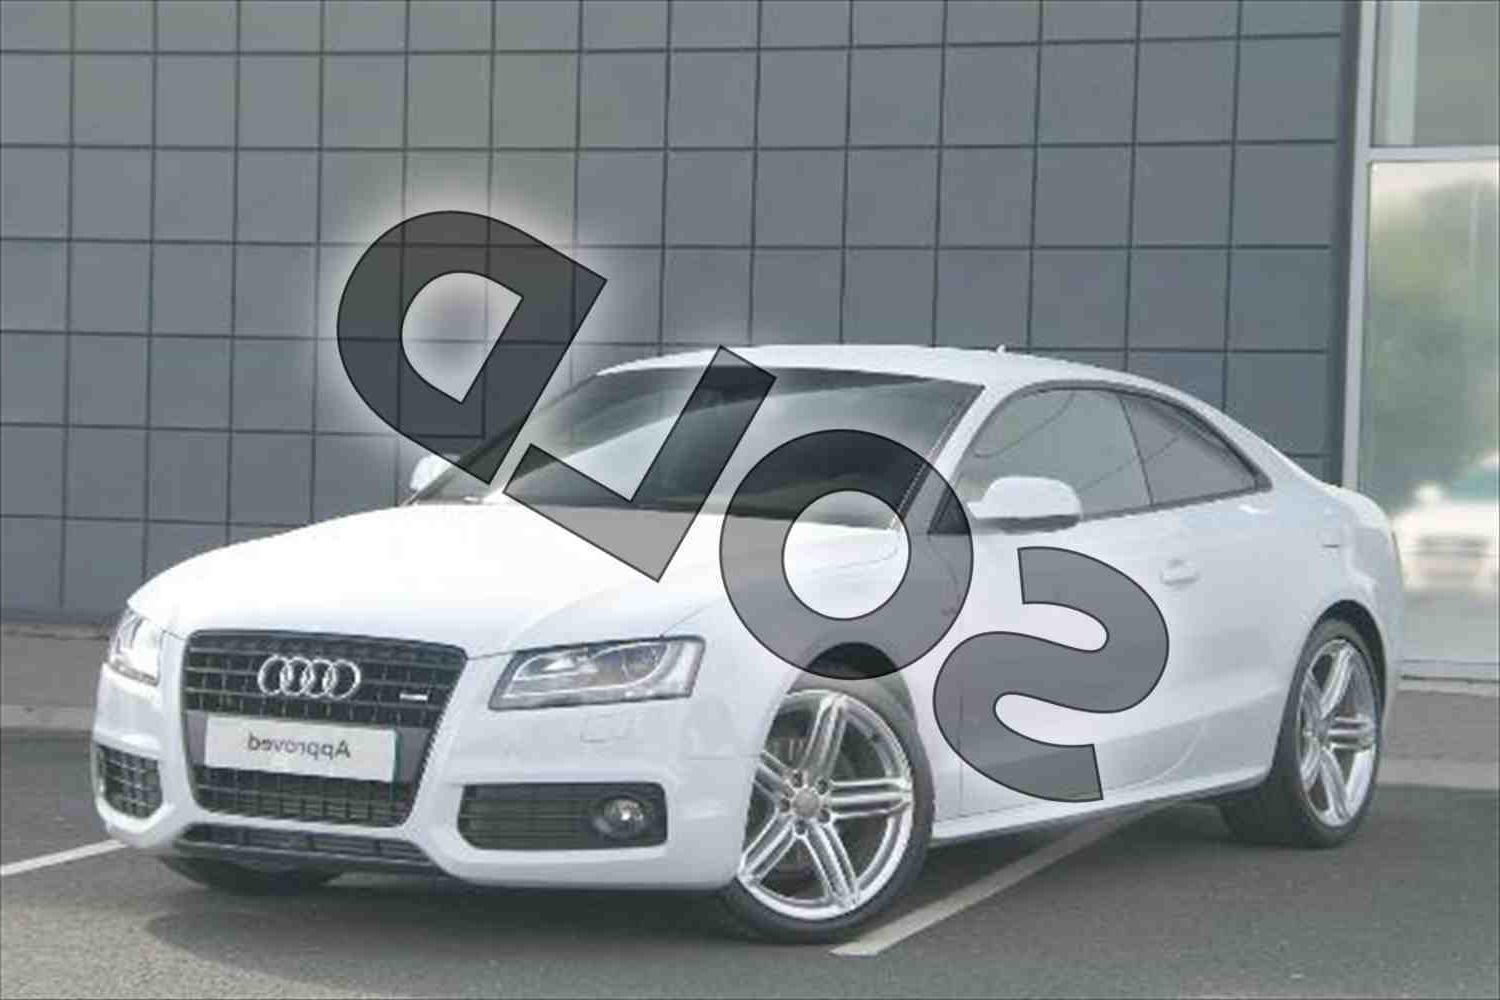Car: (61, 301, 1468, 964)
